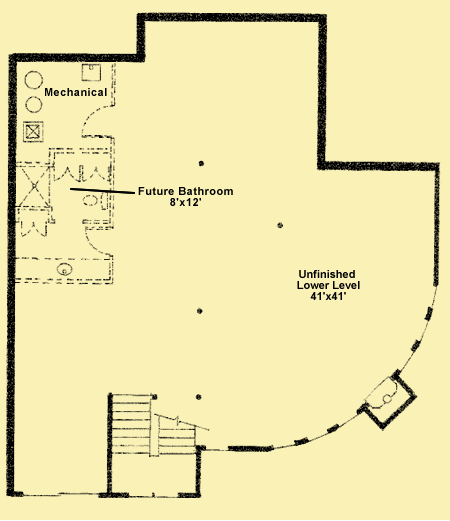door: (79, 101, 113, 140), (84, 223, 113, 258), (18, 220, 48, 239), (80, 164, 109, 183), (52, 166, 80, 184)
large_sink: (75, 190, 109, 215)
small_sink: (45, 258, 81, 279)
stairs: (106, 393, 203, 497)
